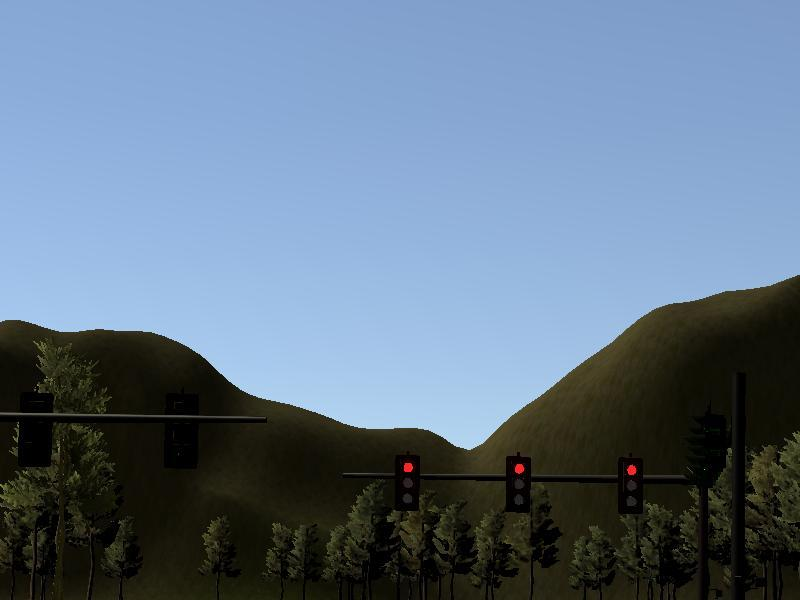Red: (394, 455, 419, 512), (618, 457, 643, 514), (506, 454, 531, 511)
